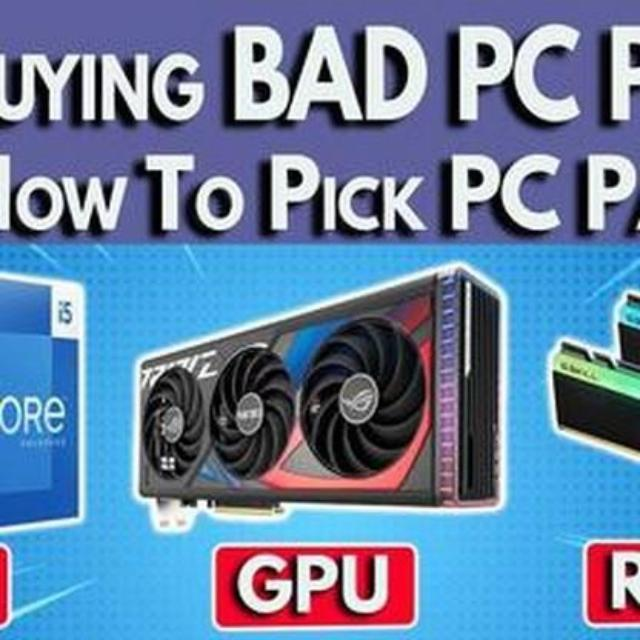GPU: (100, 259, 514, 527)
